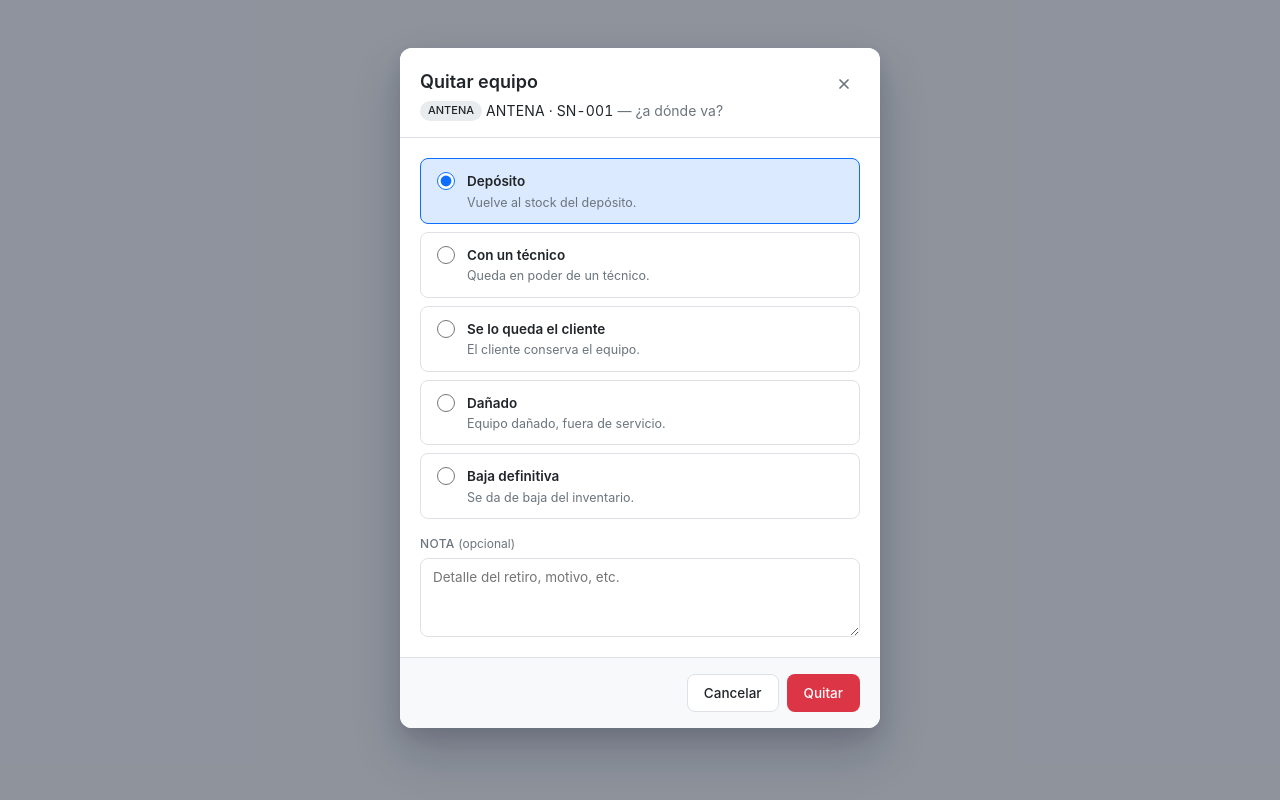
RetireInstalledItemModal › shows a generic message on a non-409 failure
Click the button "Quitar" at (823, 693), box [786,674,860,712]
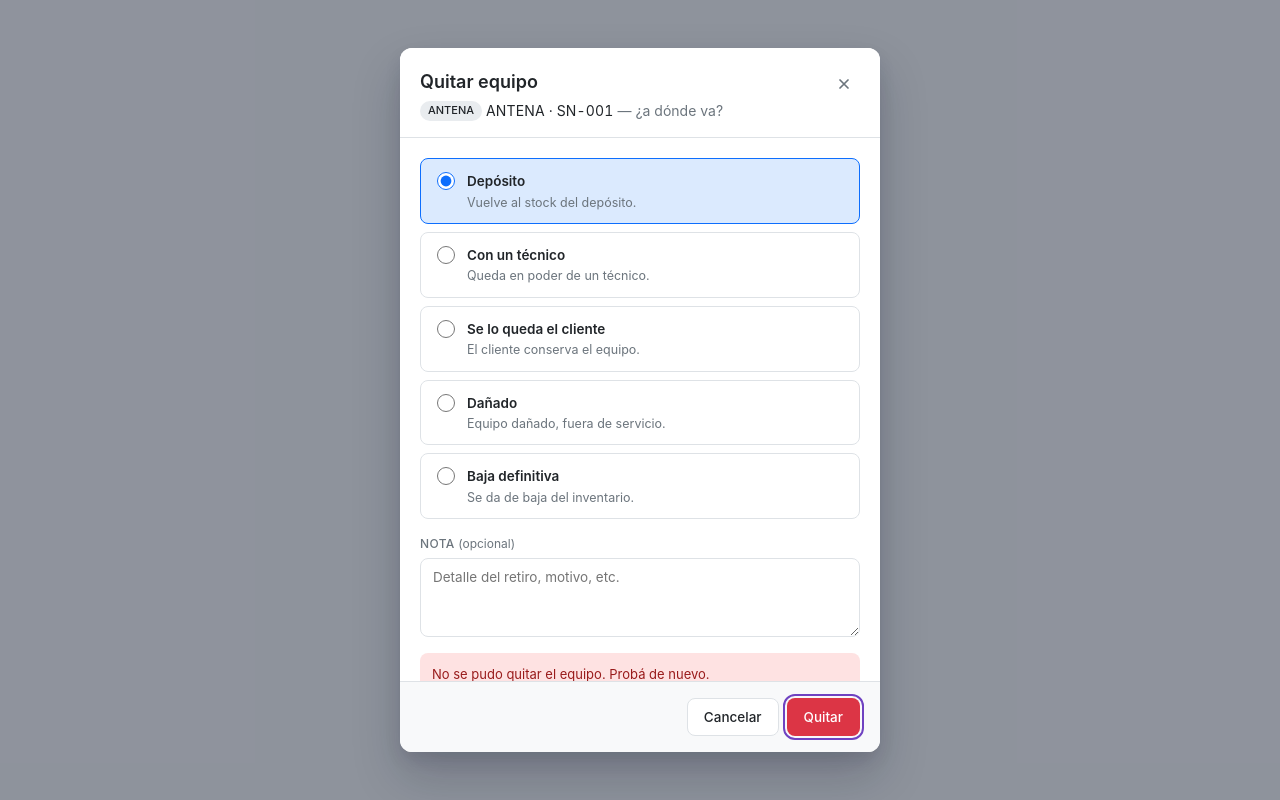
Now the message "No se pudo quitar el equipo. Probá de nuevo." is shown, box [420,653,860,681]
